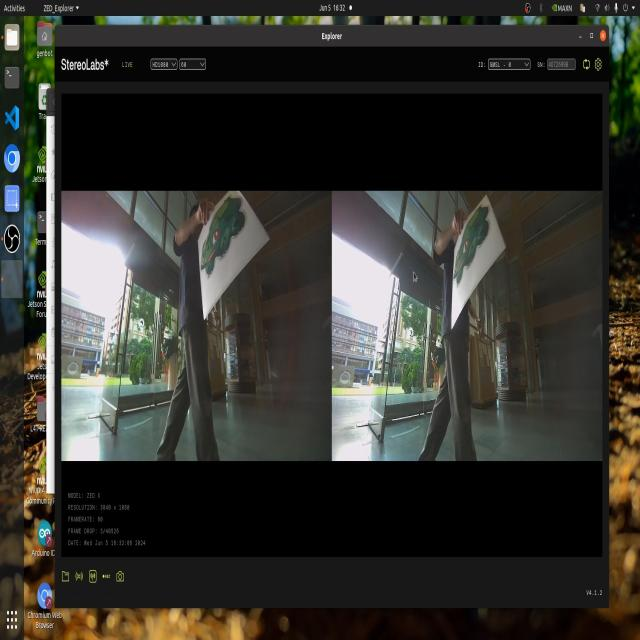green: (192, 186, 250, 268), (442, 198, 496, 278)
